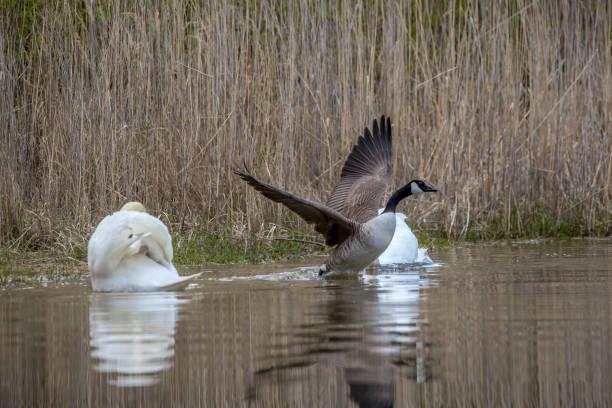Canadian-Goose: (237, 119, 439, 274)
